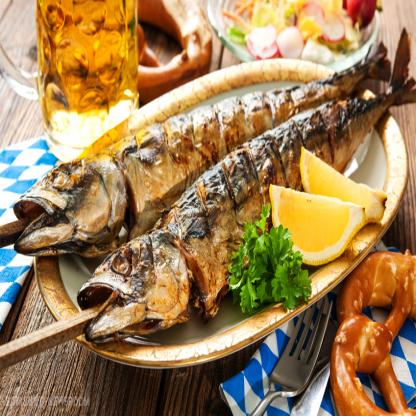Peixe: (15, 35, 404, 364)
